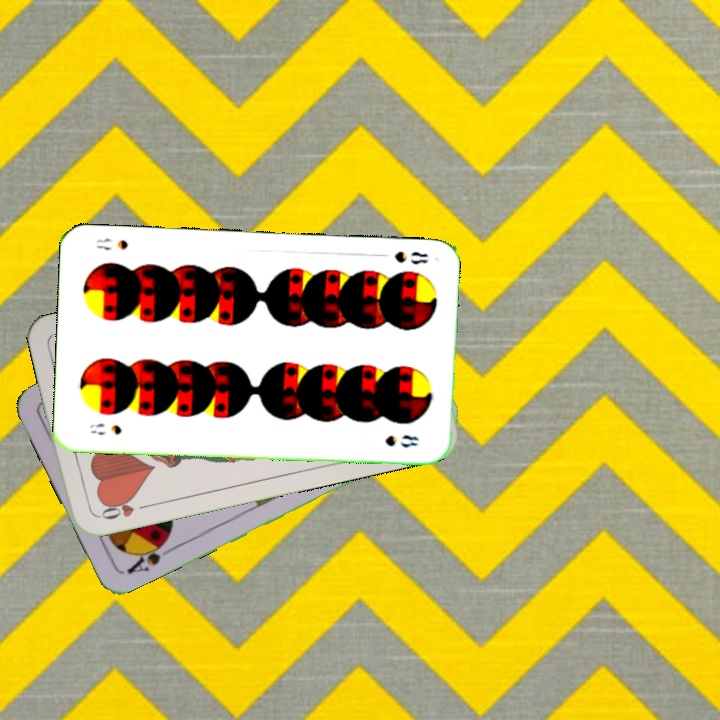HO: (93, 493, 151, 522)
S8: (391, 247, 431, 267), (86, 419, 124, 438)
SA: (122, 535, 176, 577)
